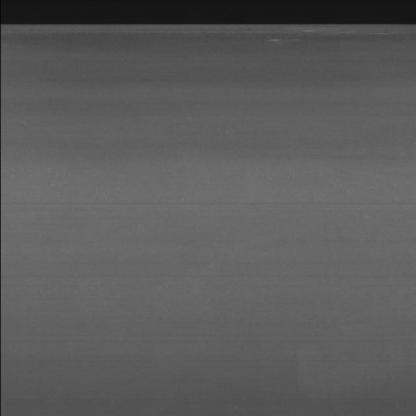silk_spot: (233, 27, 387, 50)
